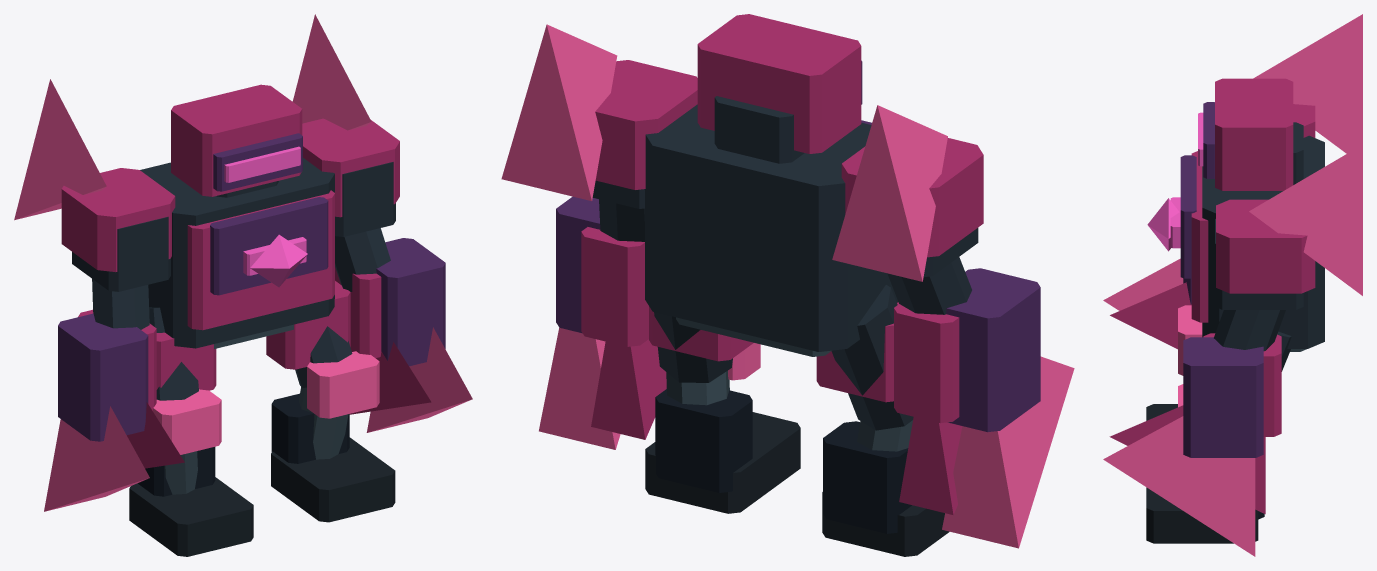
The model's file is enemy_striker_lod.obj.
3 renders of one model, left to right at view 1: azimuth 30°, elevation 25°; view 2: azimuth 150°, elevation 25°; view 3: azimuth 270°, elevation 25°, orthographic. The views are drawn at different scales.
Bounding box in the file's own units: 2.12 × 2.15 × 1.23.
